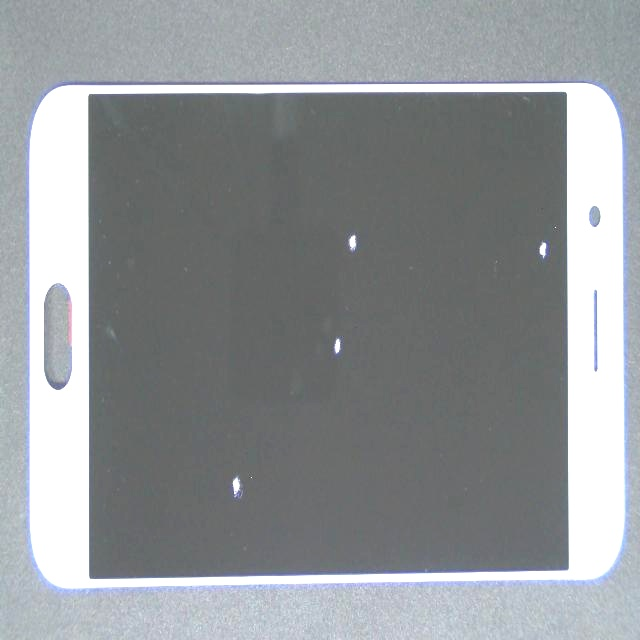stain: (164, 194, 492, 581), (247, 117, 640, 404), (72, 259, 338, 640), (182, 86, 516, 348)
